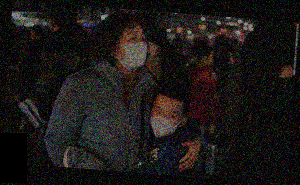with_mask: (117, 28, 148, 72), (150, 103, 180, 139)
without_mask: (205, 52, 215, 68)
